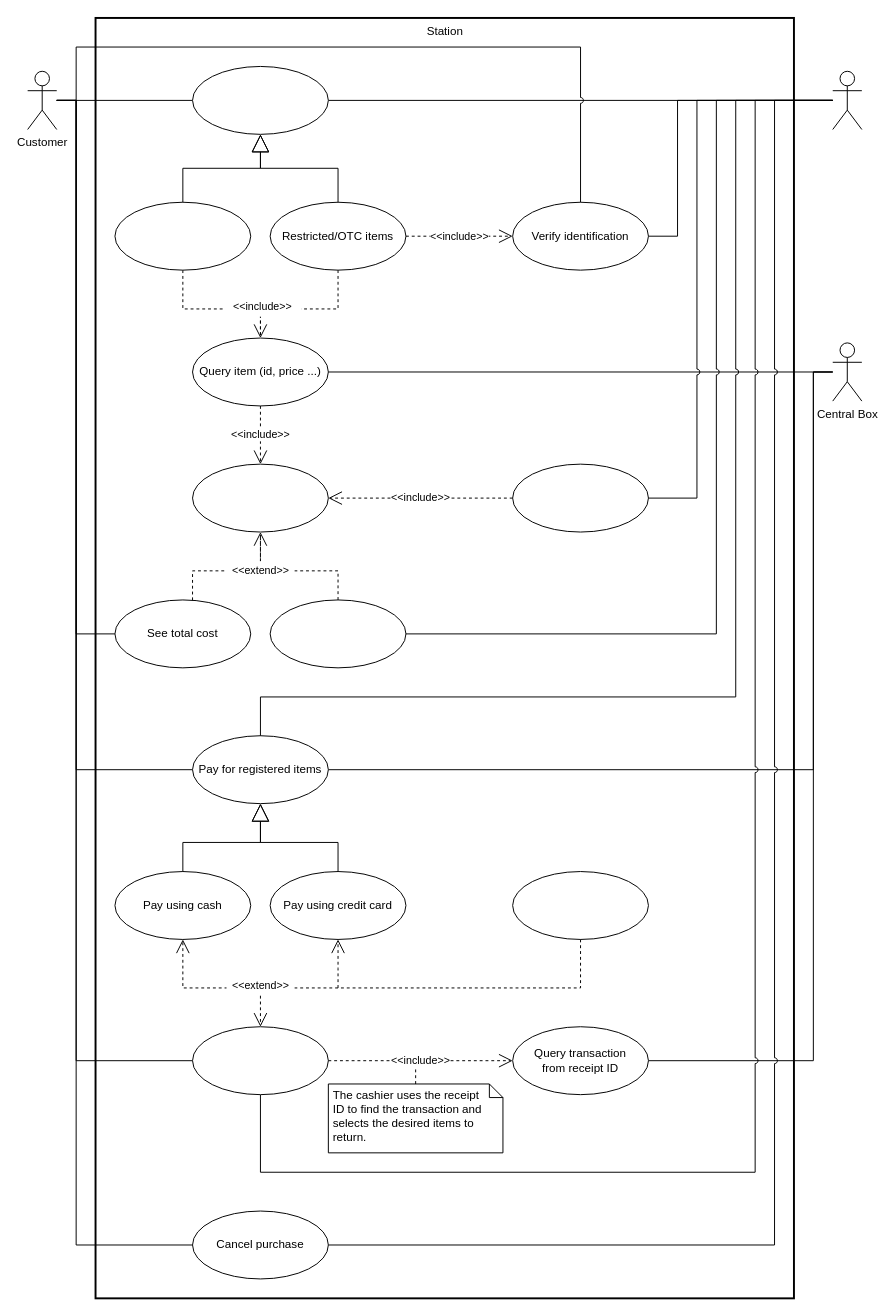
Some shapes in this 894 by 1315 pixel diagram are drawn without their labels. The centre of each missing label's shape, as x and y in pixels:
"Cashier" belongs at (x=847, y=99).
"Modify registered items and/or their quantity" belongs at (x=580, y=497).
"Print receipt" belongs at (x=580, y=905).
"Register items" belongs at (x=260, y=99).
"Regular items" belongs at (x=182, y=235).
"Return items" belongs at (x=260, y=1060).
"See registered items and prices" belongs at (x=337, y=633).
"Update list of registered items" belongs at (x=260, y=497).
